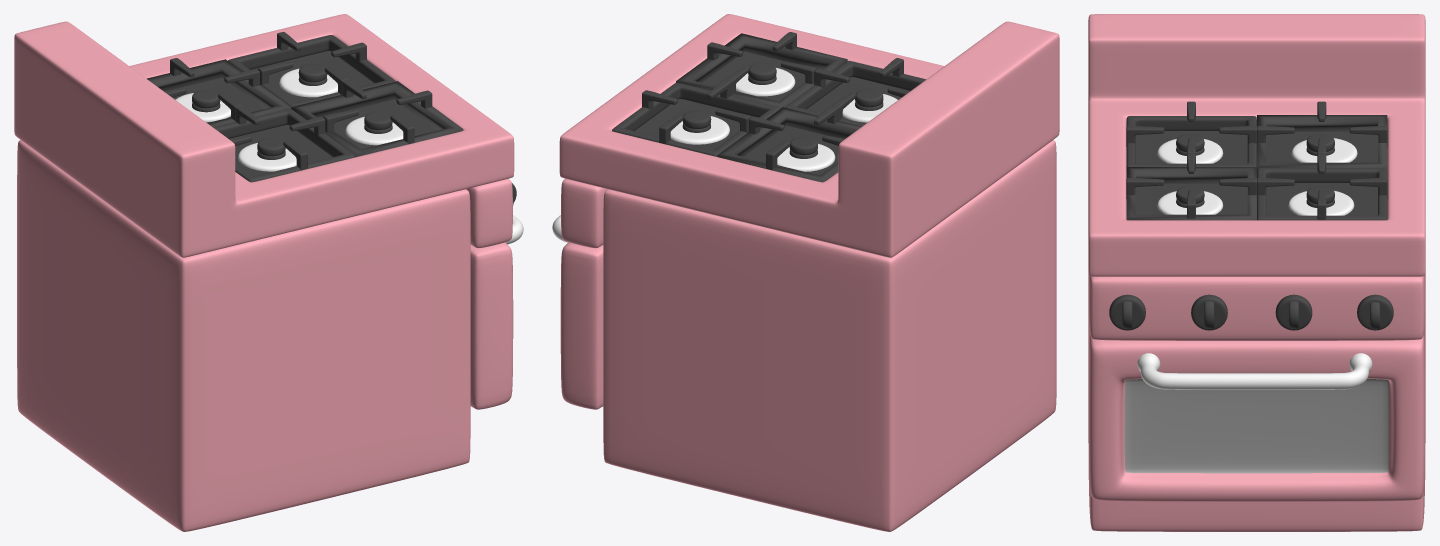
The model's file is kompor.glb.
The picture shows the model from 3 angles, left to right: view 1: azimuth 30°, elevation 25°; view 2: azimuth 150°, elevation 25°; view 3: azimuth 270°, elevation 25°; orthographic projection.
Parts seen in each view (by area): view 1: Stove_0; view 2: Stove_0; view 3: Stove_0.
Part boxes in pixels (x1,y1,x2,y2): Stove_0: (14, 14, 523, 531); Stove_0: (552, 14, 1059, 531); Stove_0: (1088, 14, 1425, 531).
Size of the model in its own units: 1.34 by 1.29 by 1.03.
